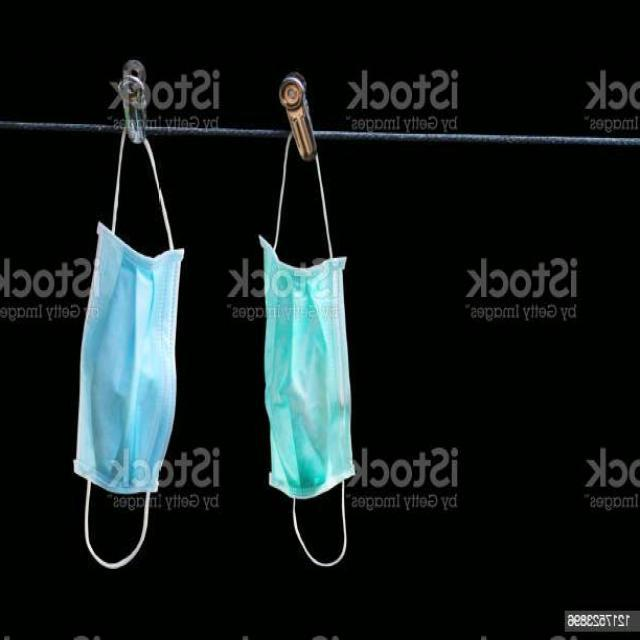face mask: (71, 130, 186, 564), (259, 124, 360, 568)
